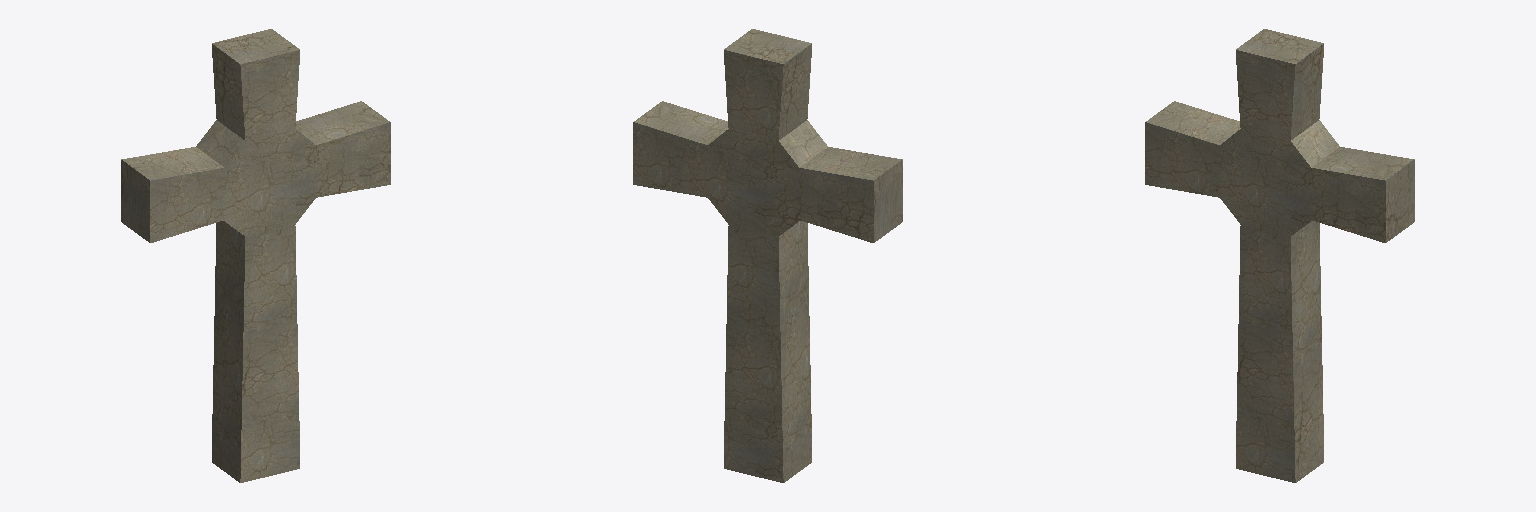
3 renders of one model, left to right at view 1: azimuth 30°, elevation 25°; view 2: azimuth 150°, elevation 25°; view 3: azimuth 330°, elevation 25°, orthographic.
Size of the model in its own units: 1.2 by 2 by 0.25.
1 materials, 1 textured.